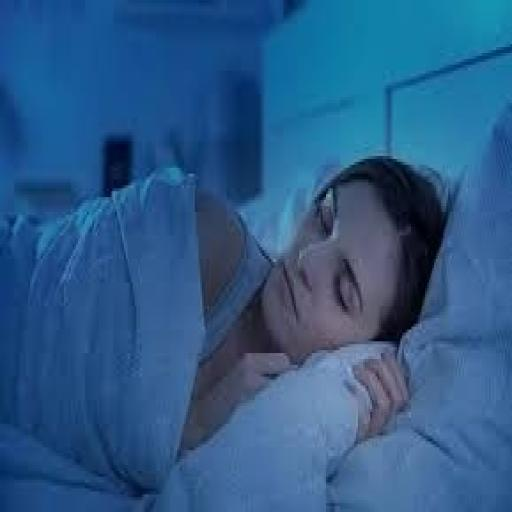sleeping: (4, 147, 450, 509)
